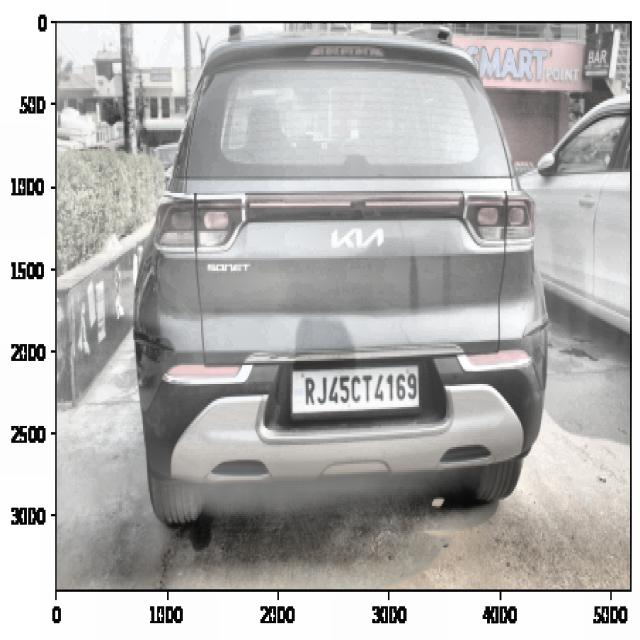license_plate: (294, 368, 421, 412)
